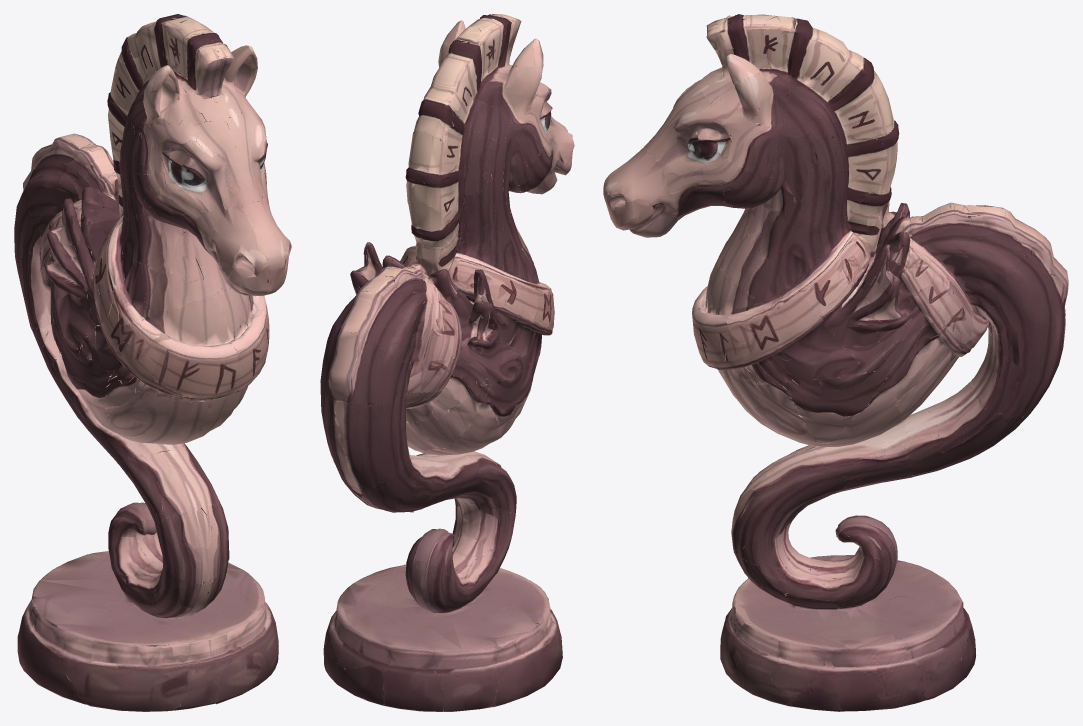
3 views of the same model, side by side, from view 1: azimuth 30°, elevation 25°; view 2: azimuth 150°, elevation 25°; view 3: azimuth 270°, elevation 25° (orthographic). The views are drawn at different scales.
Visible parts, largest first — view 1: Mesh_0; view 2: Mesh_0; view 3: Mesh_0.
Part boxes in pixels (x1,y1,x2,y2): Mesh_0: (14, 14, 291, 711); Mesh_0: (320, 14, 574, 711); Mesh_0: (603, 14, 1068, 711).
Bounding box in the file's own units: 0.6709 × 1.9 × 1.25.
Materials: 1 (1 with a texture image).
